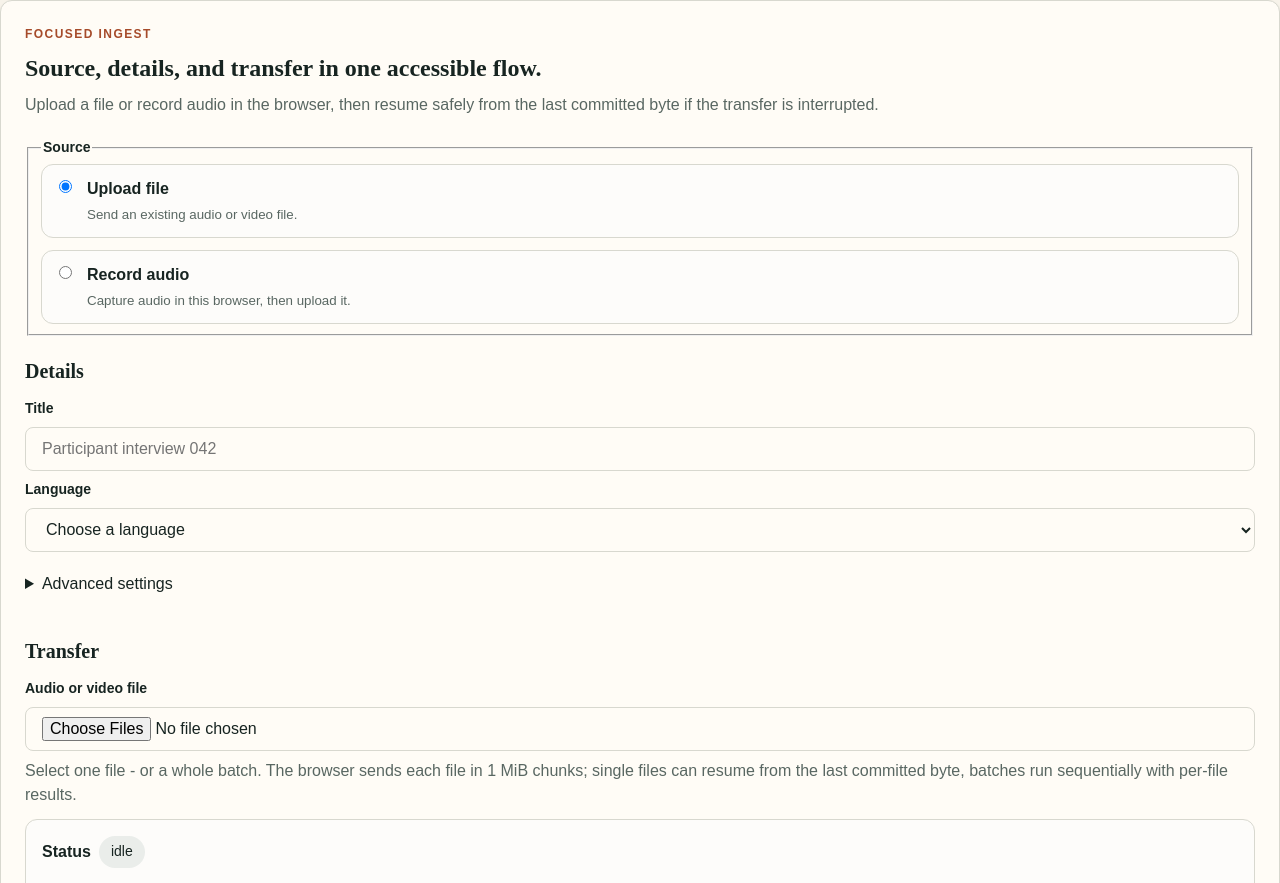
Test: IngestFlow › keeps Upload selectable after microphone denial
Click the radio button labelled "Record audio Capture audio in this browser, then upload it." at (66, 273), box [59,266,72,279]
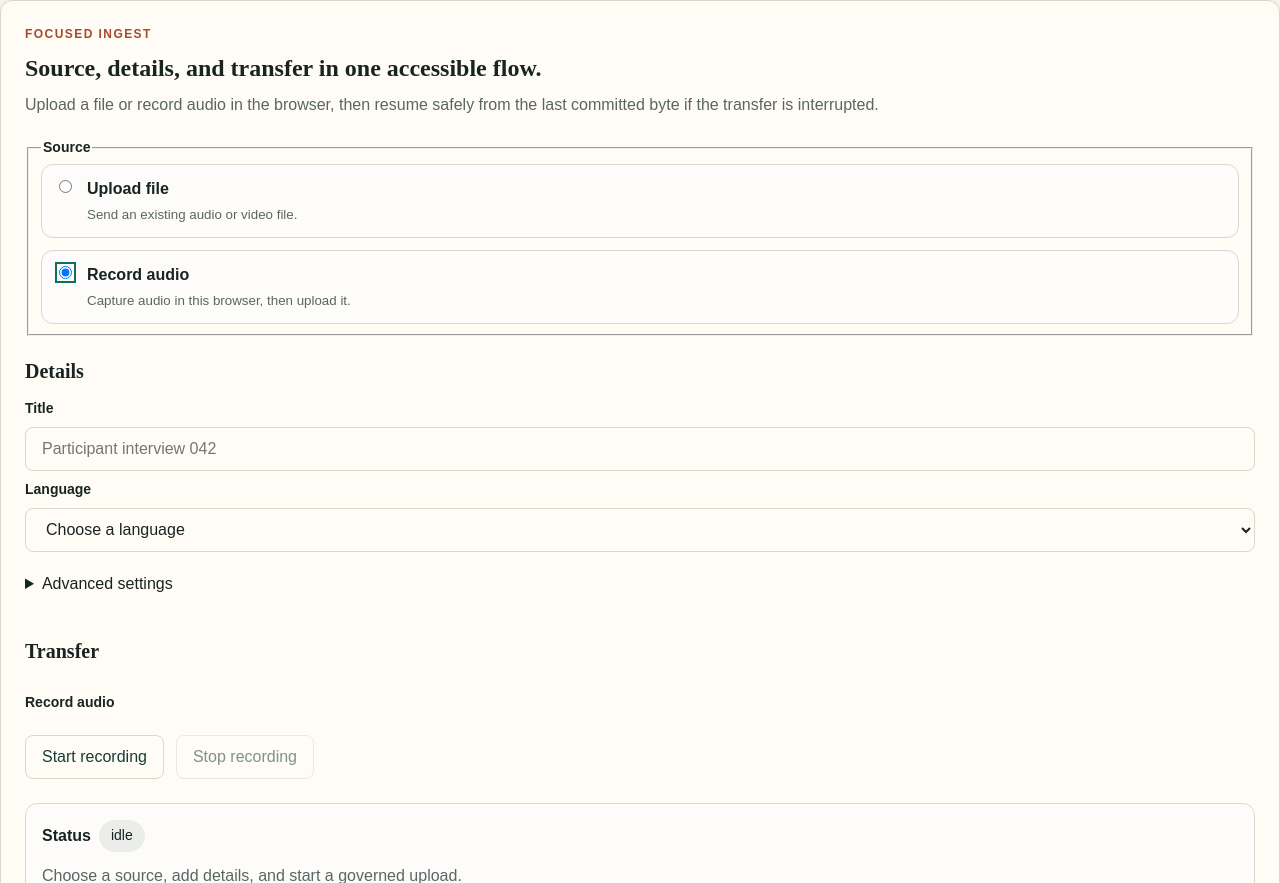
Click the button "Start recording" at (94, 757), box [25,735,164,779]
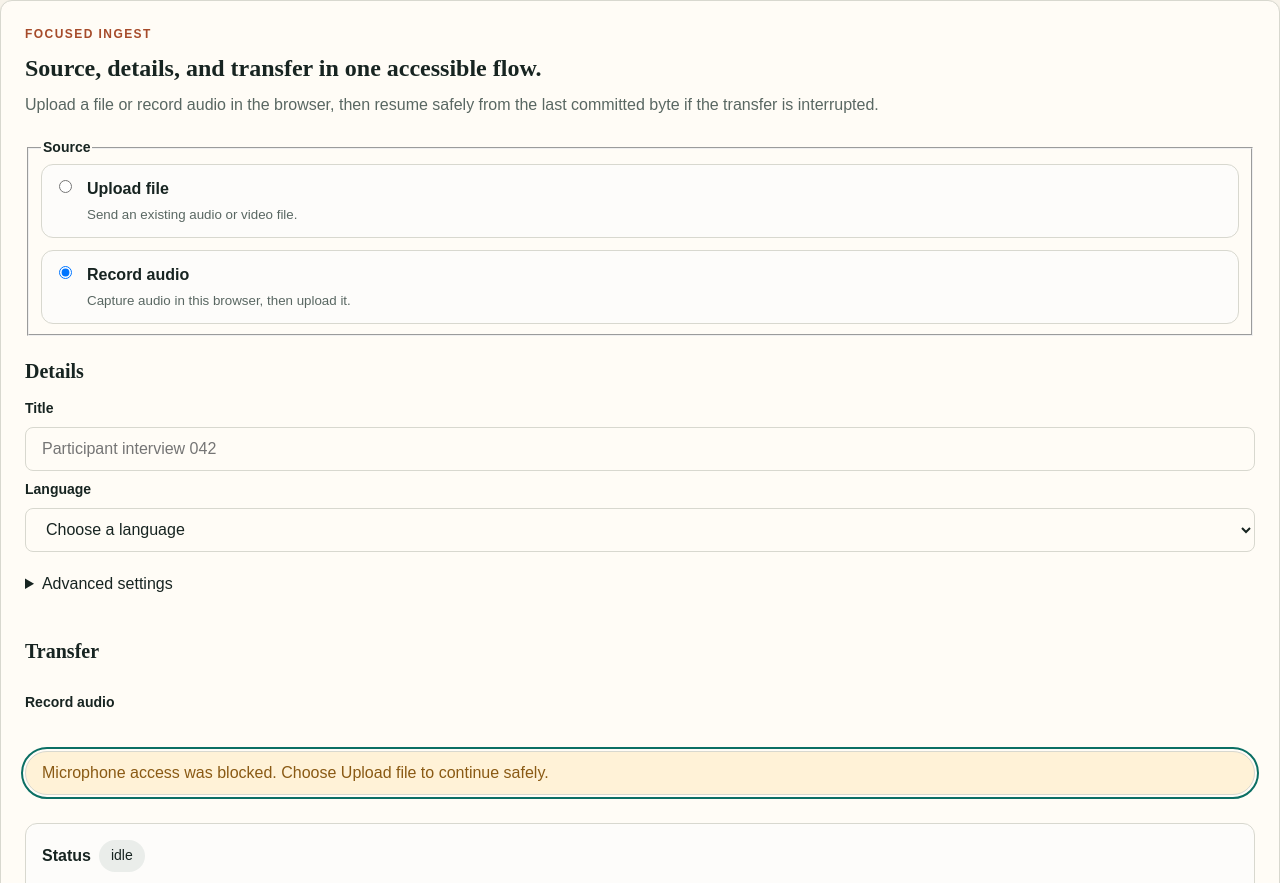
Check: the message reads "Microphone access was blocked. Choose Upload file to continue safely.", box [42,764,549,781]
Click the radio button labelled "Upload file Send an existing audio or video file." at (66, 187), box [59,180,72,193]
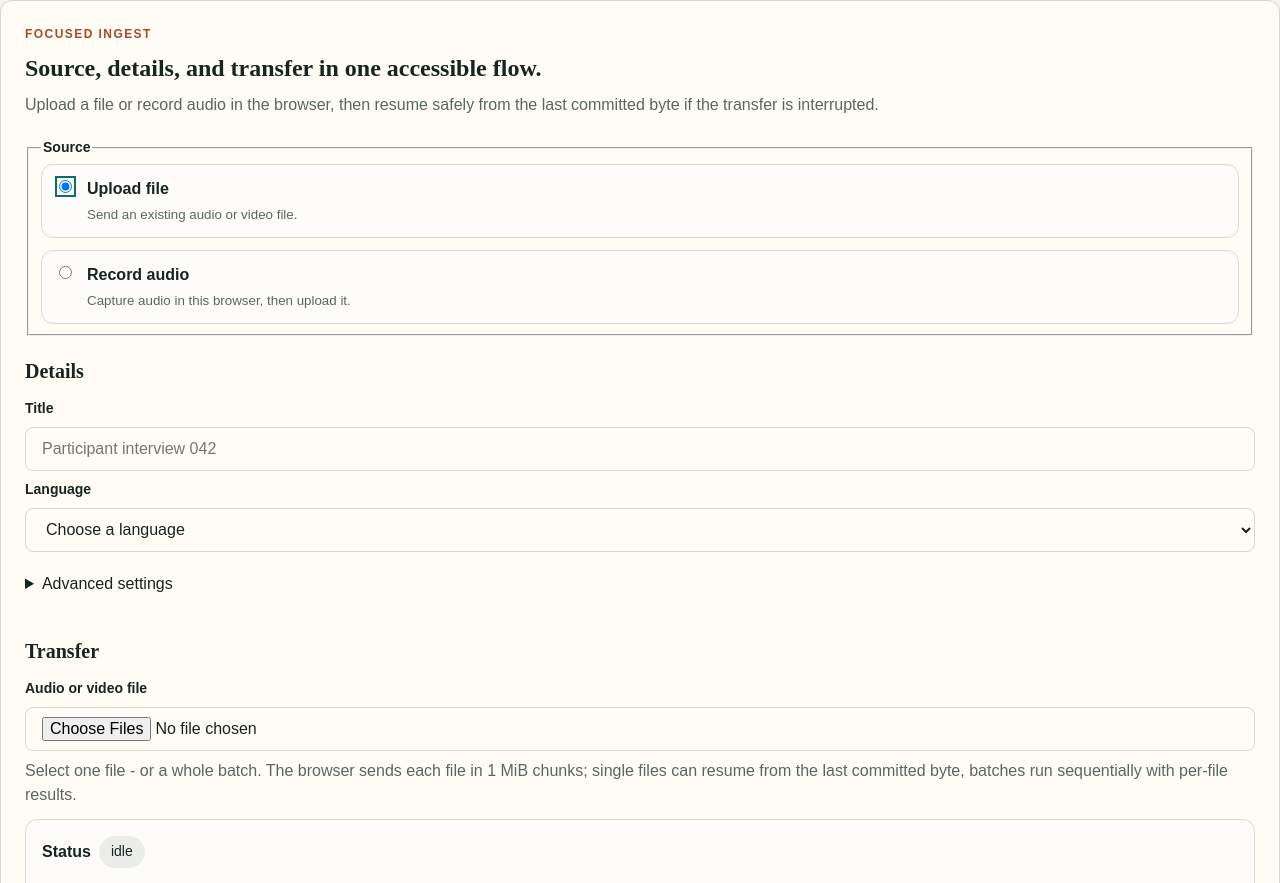
Check: the file field labelled "Audio or video file" is shown, box [25,707,1255,751]
